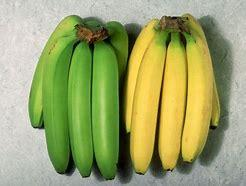banana: (122, 6, 223, 173), (32, 16, 129, 179)
